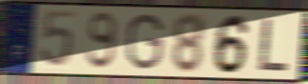5: (39, 8, 77, 71)
6: (211, 13, 253, 76)
8: (170, 11, 207, 76)
9: (85, 10, 119, 72)
G: (124, 13, 166, 72)
L: (256, 17, 290, 73)
